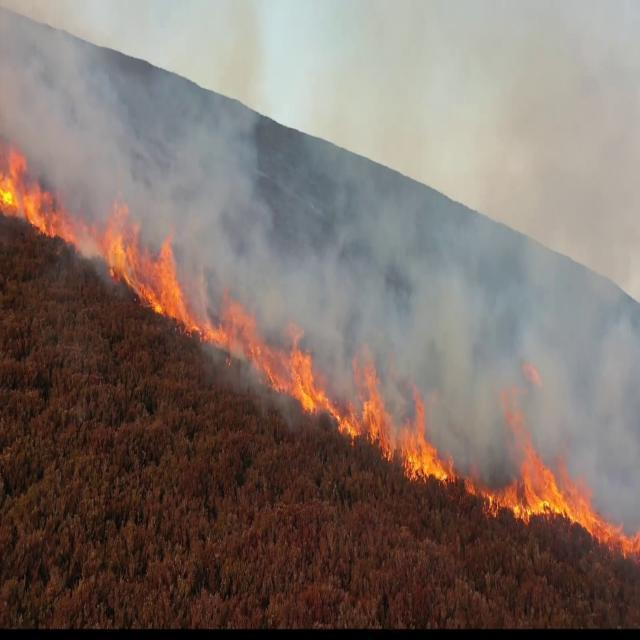Fire: (106, 190, 198, 337), (501, 359, 582, 522), (1, 147, 57, 241)
Smoke: (0, 0, 140, 145), (406, 241, 501, 391), (572, 283, 640, 461)
